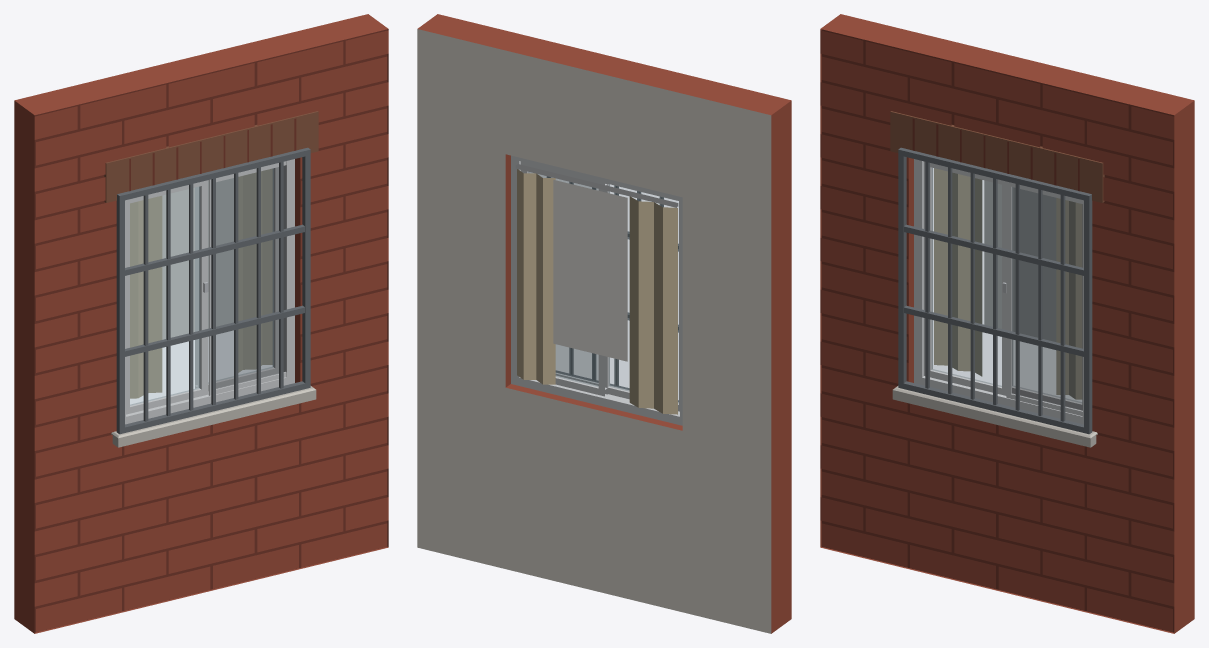
The model's file is SC_Bld_Villa_Wall_Brick_Window_2m.gltf.
3 views of the same model, side by side, from view 1: azimuth 30°, elevation 25°; view 2: azimuth 150°, elevation 25°; view 3: azimuth 330°, elevation 25° (orthographic).
Visible parts, largest first — view 1: SC_Bld_Villa_Wall_Brick_Window_2m; view 2: SC_Bld_Villa_Wall_Brick_Window_2m; view 3: SC_Bld_Villa_Wall_Brick_Window_2m.
Boxes of the visible parts, bbox=[...] form: SC_Bld_Villa_Wall_Brick_Window_2m: bbox=[14, 14, 388, 633]; SC_Bld_Villa_Wall_Brick_Window_2m: bbox=[417, 14, 791, 633]; SC_Bld_Villa_Wall_Brick_Window_2m: bbox=[820, 14, 1194, 633].
Size of the model in its own units: 2 by 2.8 by 0.255.
Materials: 2 (2 with a texture image).
